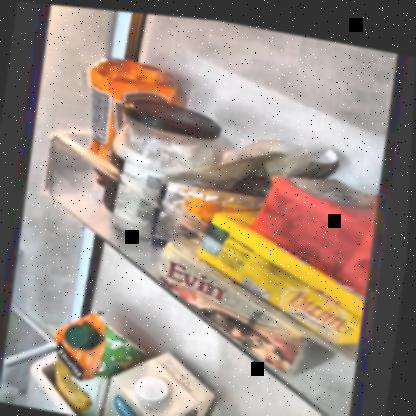butter: (170, 223, 384, 358)
milk: (107, 333, 204, 415)
